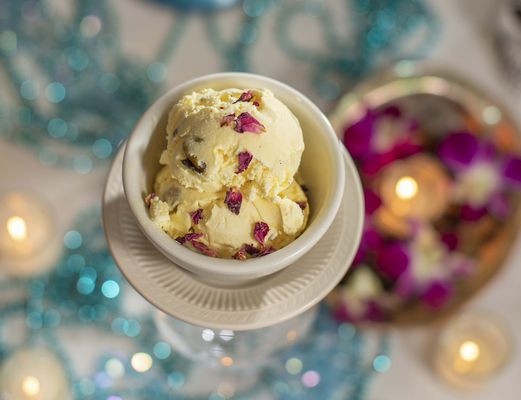sushi: (121, 73, 347, 289)
